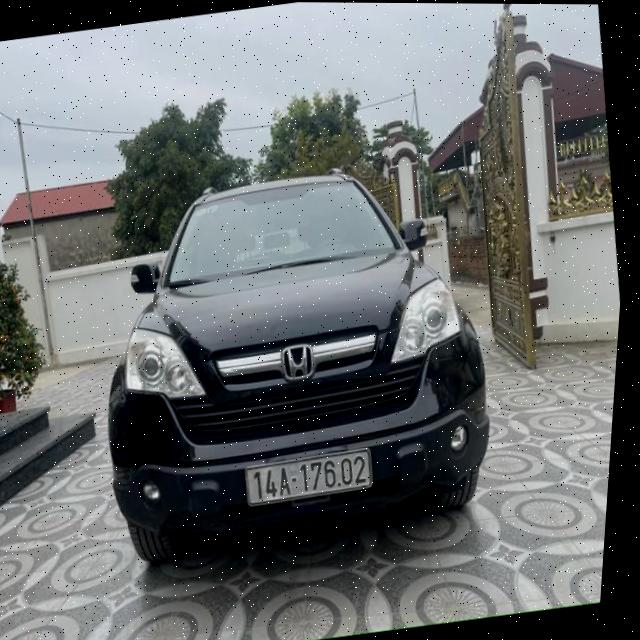car: (70, 149, 517, 589)
plate: (236, 440, 383, 513)
